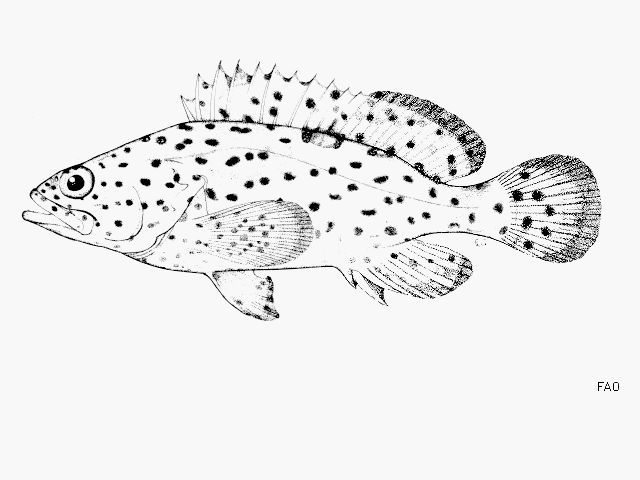fish: (22, 58, 603, 321)
